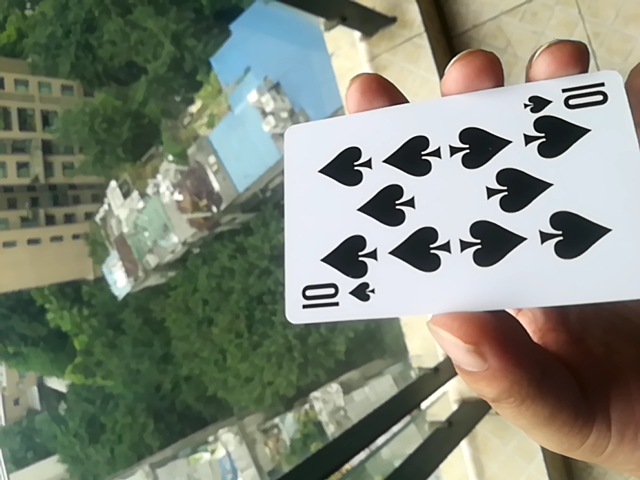ht 10: (275, 64, 640, 331)
